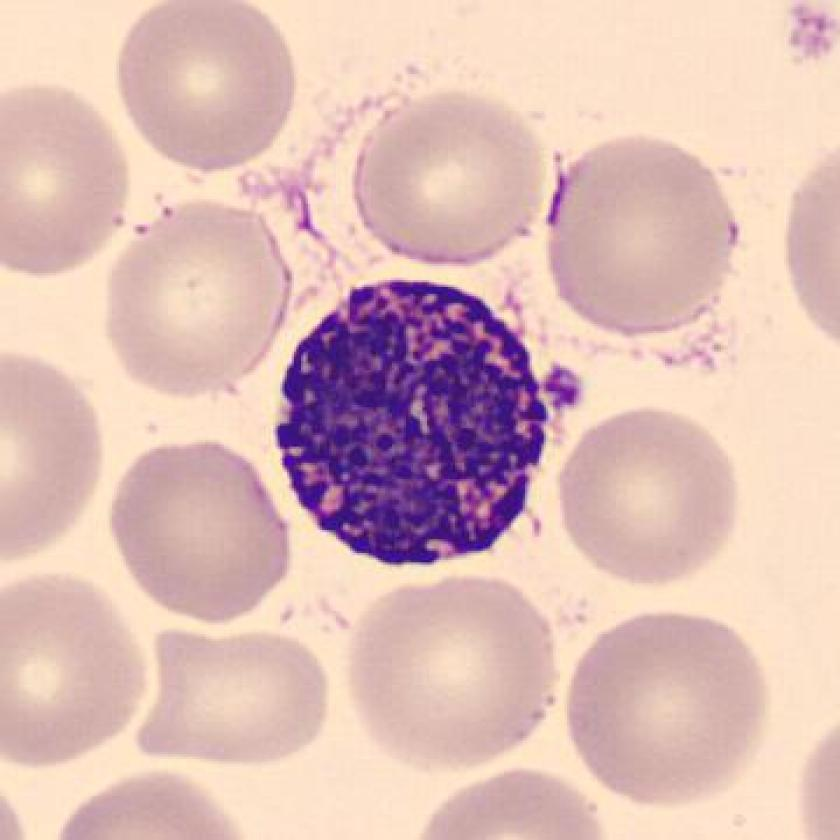basophil: (274, 279, 556, 577)
